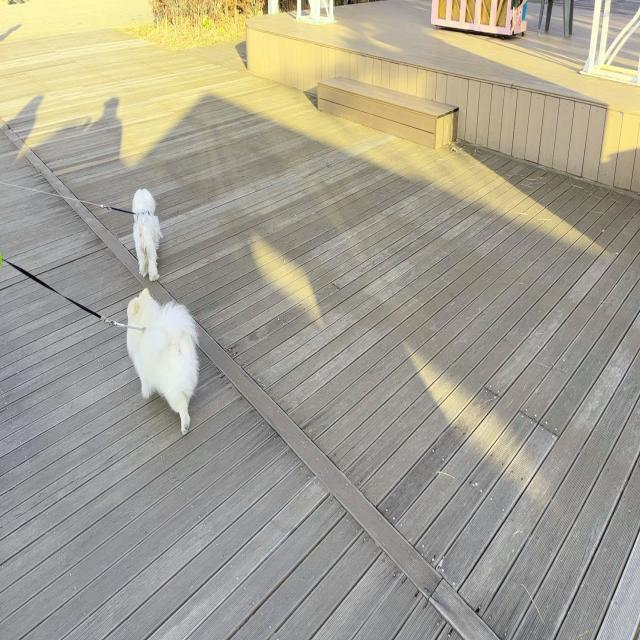Dog: (126, 288, 200, 437), (131, 186, 163, 282)
